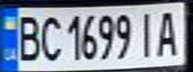1: (63, 11, 81, 61)
6: (78, 11, 100, 61)
9: (112, 10, 136, 61), (97, 11, 118, 61)
A: (151, 7, 184, 57)
B: (12, 11, 42, 62)
C: (36, 11, 63, 62)
I: (136, 8, 160, 59)
